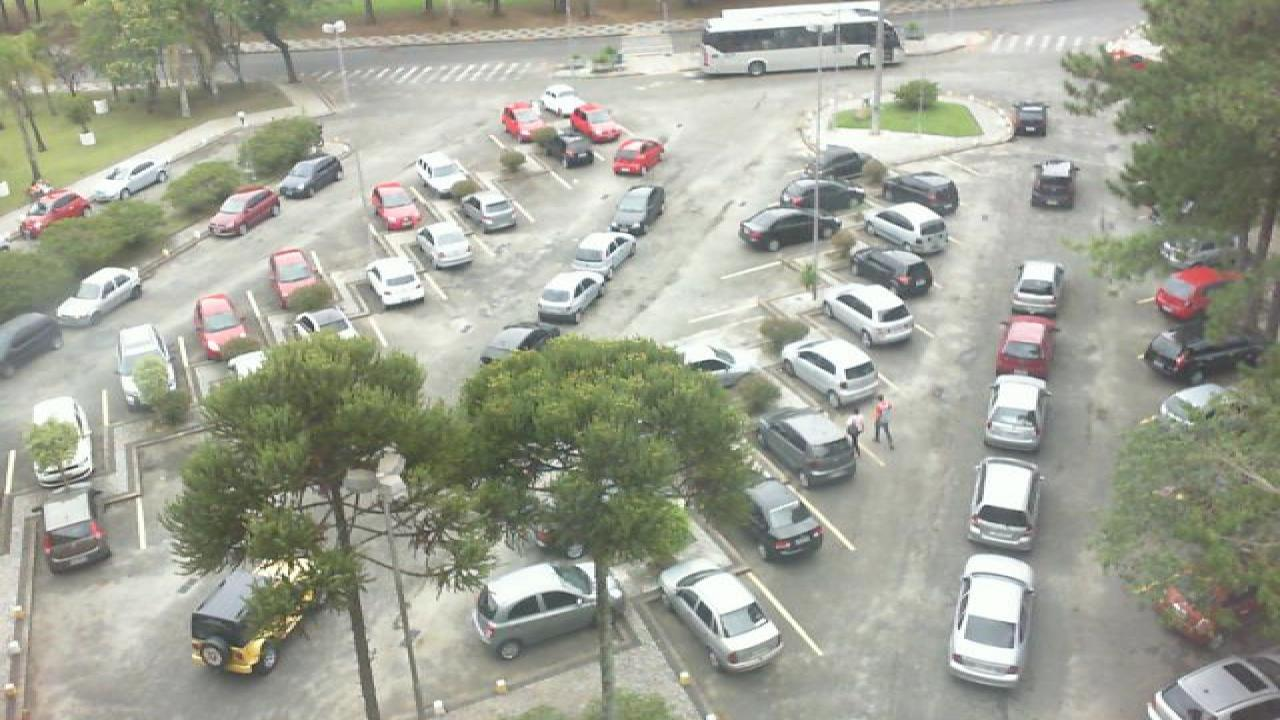Car: (188, 564, 324, 680), (656, 555, 786, 675), (466, 559, 608, 656), (942, 552, 1036, 688), (1144, 653, 1280, 720), (754, 408, 858, 488), (1140, 320, 1264, 384), (968, 456, 1042, 554), (742, 480, 828, 562), (782, 337, 882, 405), (26, 394, 94, 488), (38, 488, 112, 574), (824, 282, 916, 346), (52, 264, 144, 328), (982, 371, 1048, 456), (1154, 263, 1240, 322), (856, 200, 950, 253), (116, 321, 182, 396), (734, 207, 838, 253), (80, 157, 170, 207), (850, 245, 936, 297), (202, 184, 282, 239), (538, 268, 612, 327), (480, 322, 566, 370), (566, 230, 642, 284), (0, 312, 66, 374), (994, 316, 1058, 379), (192, 291, 250, 360), (14, 188, 96, 235), (880, 170, 960, 216), (1008, 258, 1066, 320), (366, 256, 428, 310), (776, 176, 868, 212), (268, 248, 324, 306), (412, 219, 474, 270), (458, 188, 520, 234), (368, 180, 422, 232), (276, 158, 342, 200), (612, 184, 668, 233), (792, 143, 862, 181), (566, 99, 624, 144), (414, 151, 470, 197), (676, 342, 740, 381), (1028, 158, 1076, 208), (292, 308, 354, 346), (612, 137, 666, 177), (498, 100, 544, 145), (552, 128, 596, 170), (536, 83, 586, 117), (1010, 99, 1048, 137)
